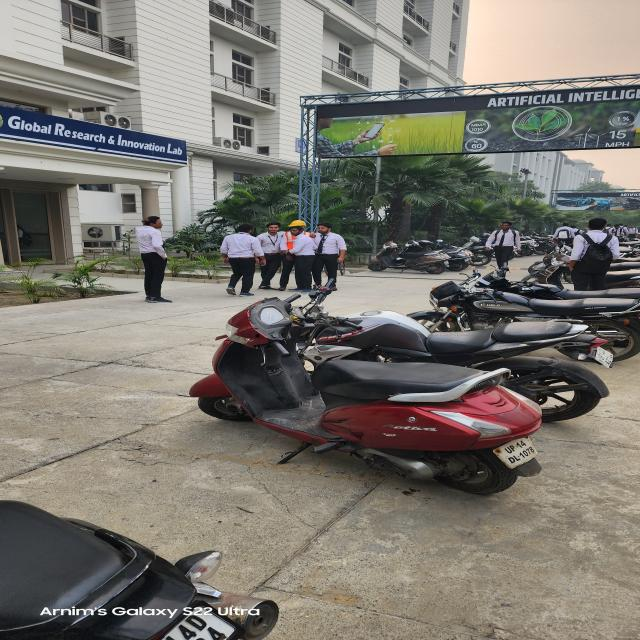unsafe: (567, 216, 619, 290), (135, 215, 171, 303), (310, 223, 350, 291), (223, 222, 257, 298), (258, 222, 283, 291), (487, 221, 522, 269), (288, 228, 313, 290)
